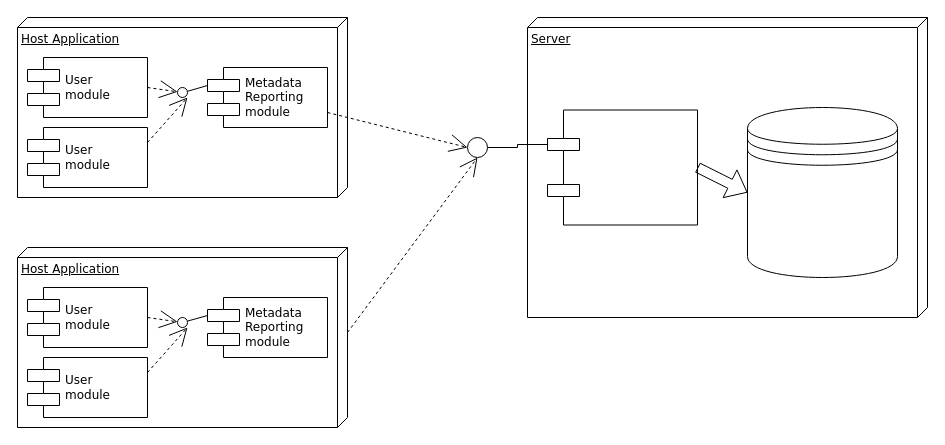
This 945x445 diagram has some shape labels left out. The box of each missing label's shape, as (x1, y1, x2, y2) in pixels:
Metadata database: (746, 106, 898, 278)
Reporting Server: (546, 109, 698, 225)
